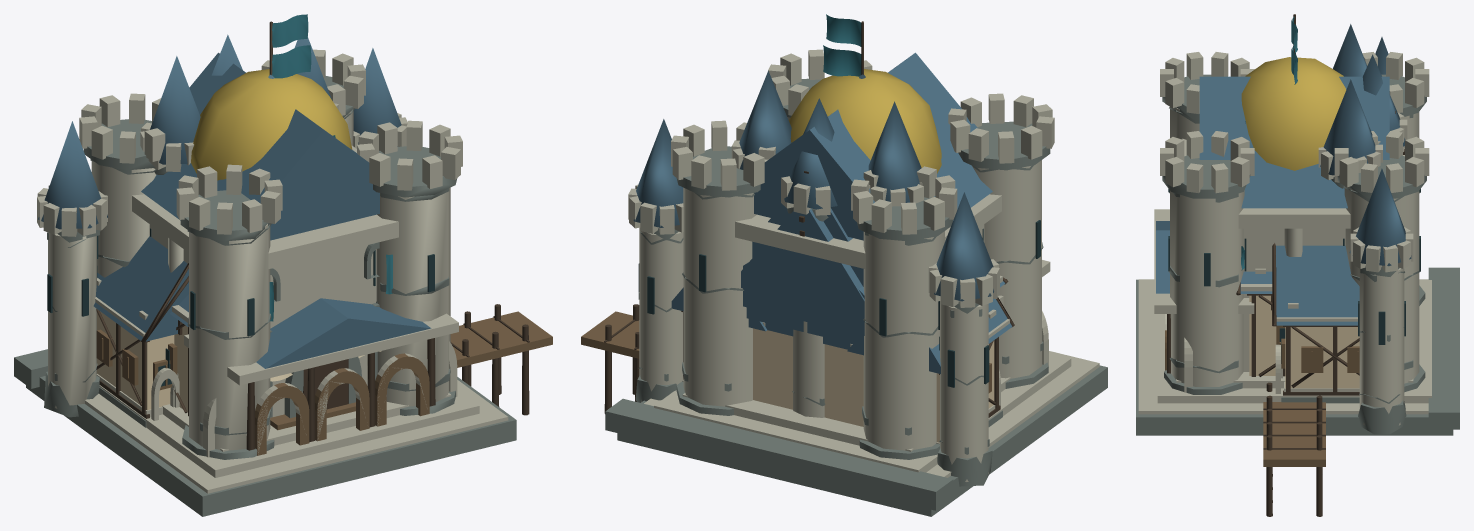
Rendered from frontier-far.glb.
The picture shows the model from 3 angles, left to right: view 1: azimuth 30°, elevation 25°; view 2: azimuth 150°, elevation 25°; view 3: azimuth 270°, elevation 25°; orthographic projection. The views are drawn at different scales.
Parts seen in each view (by area): view 1: part_167, part_191, part_169, part_190, part_193, part_26, part_166, part_5, part_8, part_467, part_27, part_235 (+15 smaller); view 2: part_167, part_26, part_24, part_191, part_183, part_169, part_166, part_193, part_190, part_181, part_27, part_645 (+14 smaller); view 3: part_167, part_191, part_169, part_193, part_26, part_24, part_467, part_190, part_166, part_196, part_183, part_3 (+17 smaller).
Boxes of the visible parts, x1,y1,x2,y2 form: part_167: (79,49,462,450); part_191: (85,145,508,493); part_169: (141,52,379,240); part_190: (26,301,516,516); part_193: (191,69,352,180); part_26: (37,113,407,408); part_166: (83,75,457,459); part_5: (146,34,431,368); part_8: (96,331,429,455); part_467: (93,236,188,341); part_27: (38,48,401,229); part_235: (95,278,458,420); part_167: (671,49,1054,450); part_26: (628,184,999,481); part_24: (605,207,992,510); part_191: (644,194,1099,477); part_183: (739,71,921,317); part_169: (754,52,992,240); part_166: (676,78,1050,459); part_193: (788,69,941,173); part_190: (617,365,1107,516); part_181: (753,328,863,426); part_27: (633,119,993,301); part_645: (741,208,864,317); part_167: (1160,52,1429,386); part_191: (1138,138,1431,414); part_169: (1199,76,1389,208); part_193: (1241,57,1346,170); part_26: (1350,227,1413,425); part_24: (1358,266,1459,434); part_467: (1276,245,1359,325); part_190: (1136,279,1453,435); part_166: (1162,74,1426,394); part_196: (1263,402,1325,466); part_183: (1320,24,1375,175); part_3: (1285,327,1359,388).
Bounding box in the file's own units: 14.82 × 14 × 10.39.
